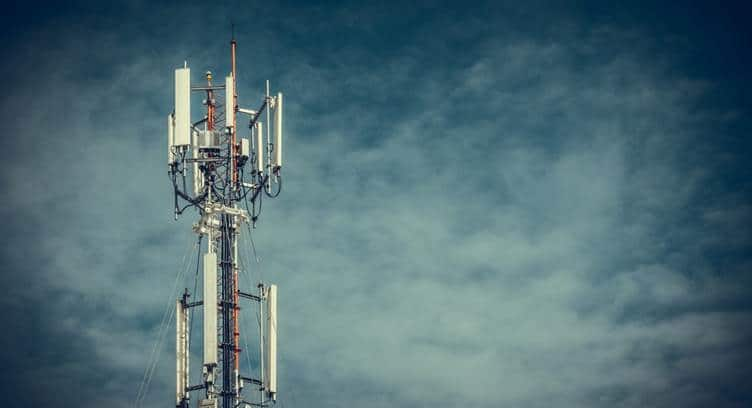a: (204, 255, 216, 362), (175, 69, 189, 144), (174, 302, 183, 399), (268, 286, 276, 392), (274, 95, 281, 163), (193, 133, 199, 191), (225, 78, 231, 125), (256, 125, 261, 168)
